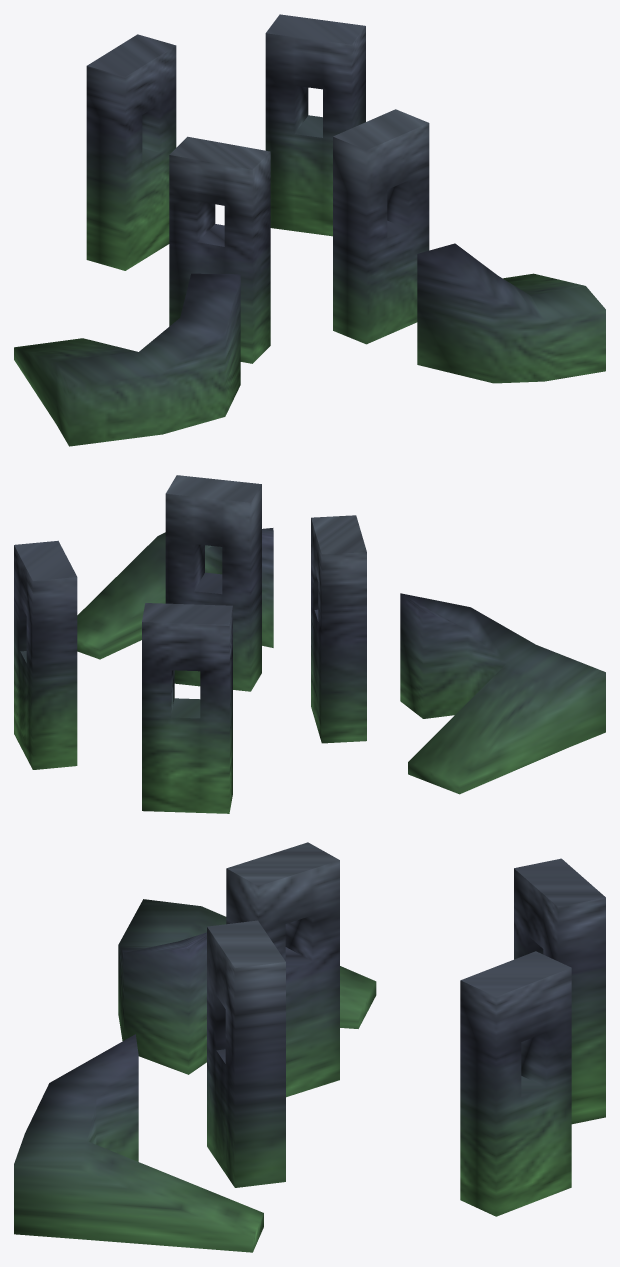
File: Selva04.fbx
The picture shows the model from 3 angles, top to bottom: view 1: azimuth 30°, elevation 25°; view 2: azimuth 150°, elevation 25°; view 3: azimuth 270°, elevation 25°; orthographic projection. The views are drawn at different scales.
Visible parts, largest first — view 1: Selva04; view 2: Selva04; view 3: Selva04.
Part boxes in pixels (x1=…): Selva04: x1=14, y1=14, x2=605, y2=446; Selva04: x1=14, y1=475, x2=605, y2=813; Selva04: x1=14, y1=842, x2=605, y2=1252.
Bounding box in the file's own units: 54.83 × 20.06 × 48.39.
